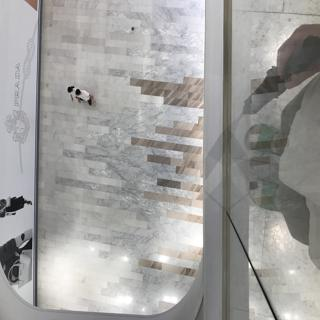person: (73, 87, 102, 104), (64, 77, 74, 100)
